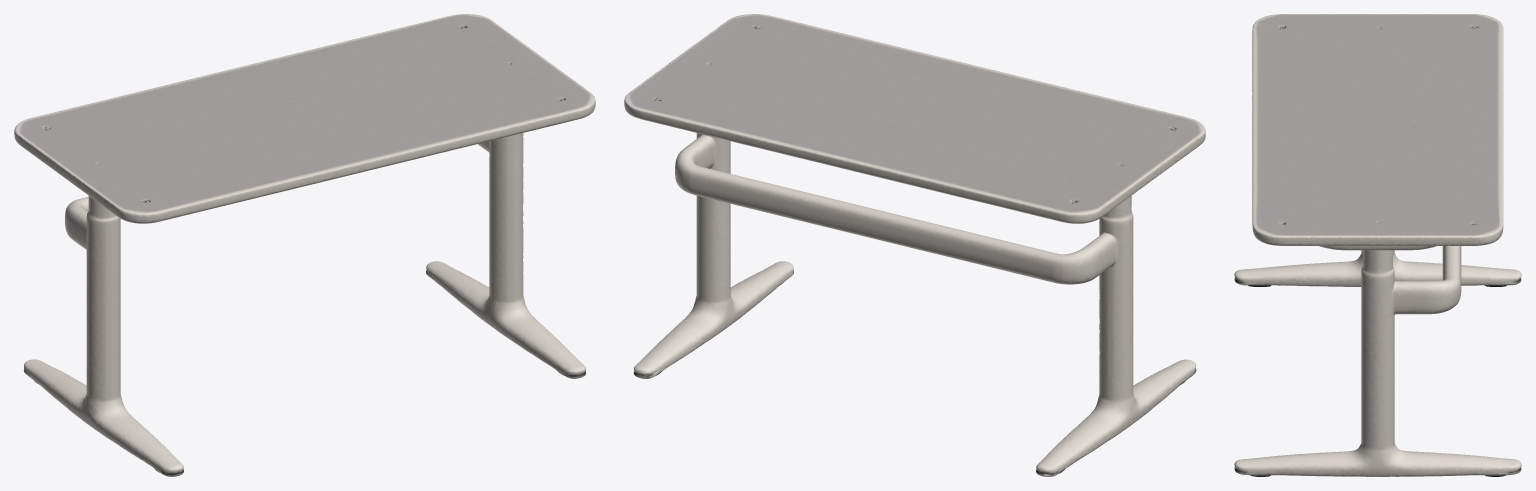
The model's file is 03_白色简约升降桌.glb.
The picture shows the model from 3 angles, left to right: view 1: azimuth 30°, elevation 25°; view 2: azimuth 150°, elevation 25°; view 3: azimuth 270°, elevation 25°; orthographic projection. The views are drawn at different scales.
Visible parts, largest first — view 1: world; view 2: world; view 3: world.
Part boxes in pixels (x1=…): world: x1=14, y1=14, x2=595, y2=476; world: x1=624, y1=14, x2=1205, y2=476; world: x1=1234, y1=14, x2=1521, y2=476.
Bounding box in the file's own units: 1 × 0.533 × 0.5455.
1 material, 1 textured.
